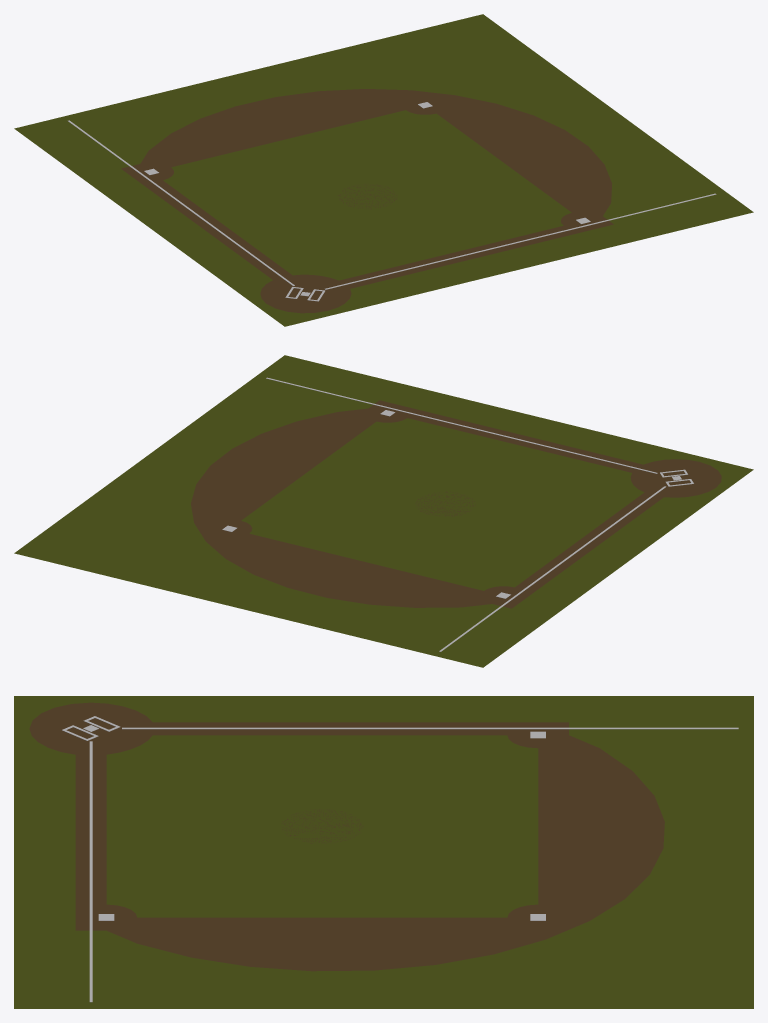
The model's file is SM_parcel_baseballPitch.glb.
3 views of the same model, one above another, from view 1: azimuth 30°, elevation 25°; view 2: azimuth 150°, elevation 25°; view 3: azimuth 270°, elevation 25° (orthographic). The views are drawn at different scales.
Visible parts, largest first — view 1: SM_parcel_baseballPitch; view 2: SM_parcel_baseballPitch; view 3: SM_parcel_baseballPitch.
Part boxes in pixels (left/top/right/bottom): SM_parcel_baseballPitch: left=14, top=14, right=753, bottom=326; SM_parcel_baseballPitch: left=14, top=355, right=753, bottom=667; SM_parcel_baseballPitch: left=14, top=696, right=753, bottom=1008.
Size of the model in its own units: 48 by 0.02 by 48.
1 material, 1 textured.
